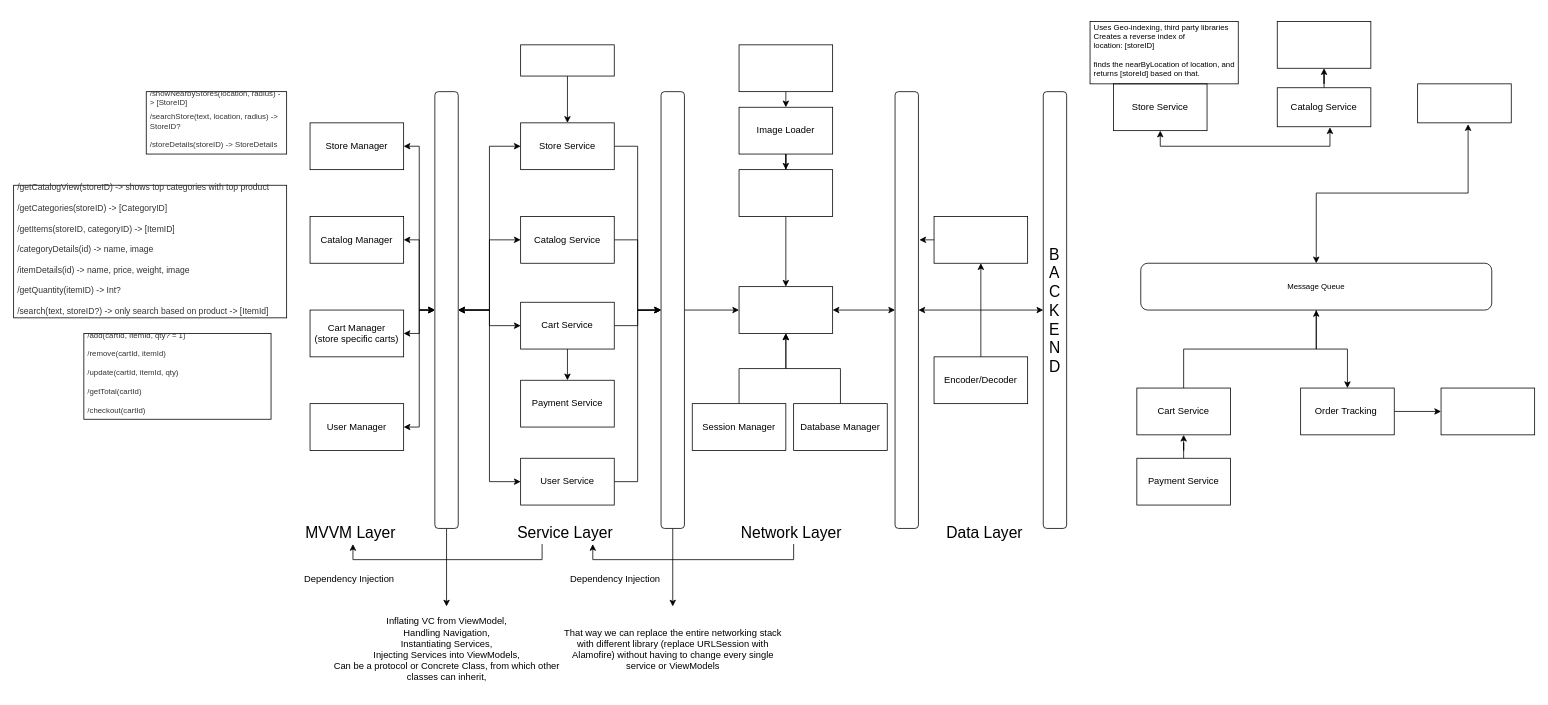
The diagram is 1548 pixels wide and 705 high, and some of its shapes have lost their labels. The shapes that lost their labels are listed below. From the top down, each one's box as (x1, y1, x2, y2) in pixels, then its label:
(520, 44, 614, 76): Location Service
(1276, 21, 1371, 68): Inventory Service
(738, 44, 833, 92): Image Cache
(1417, 83, 1511, 123): Fulfillment Service
(738, 169, 833, 216): Image Manager
(933, 216, 1028, 263): Data Models
(434, 91, 458, 528): C O O R D I N A T O R
(660, 91, 684, 528): I N T E R F A C E S
(738, 286, 833, 333): Network Manager
(894, 91, 918, 528): A P I L A Y E R
(1440, 387, 1535, 435): Notification Service
